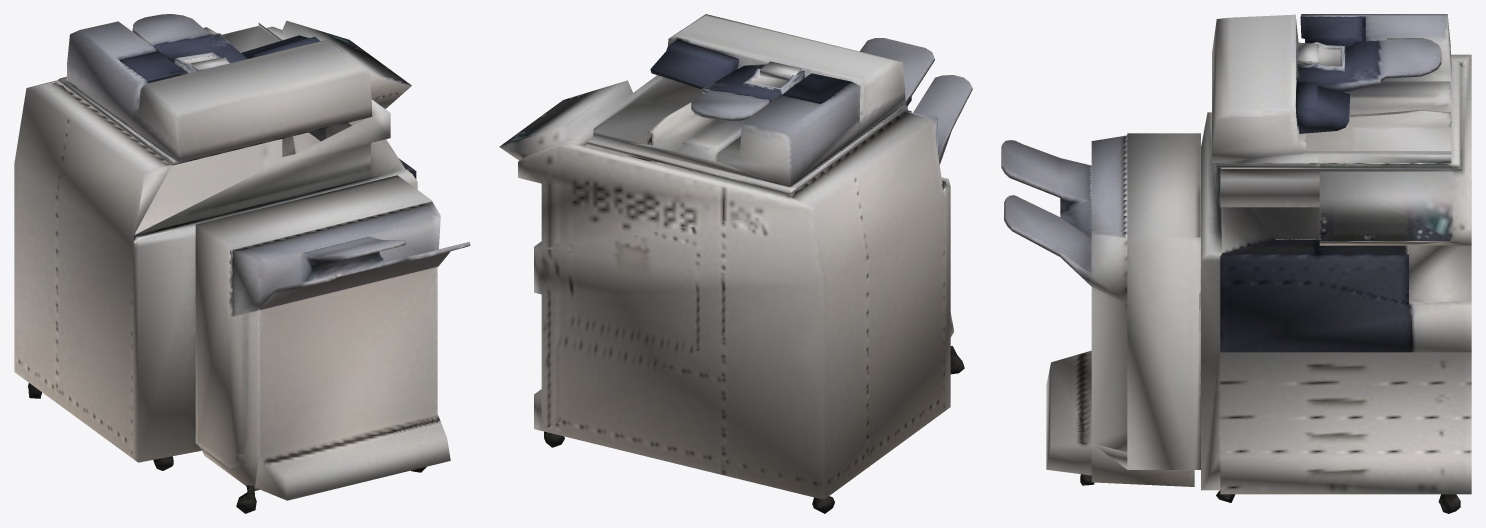
File: tripo_convert_8d50d58f-6e32-4be8-bfdd-7e49632e002f.fbx
The picture shows the model from 3 angles, left to right: view 1: azimuth 30°, elevation 25°; view 2: azimuth 150°, elevation 25°; view 3: azimuth 270°, elevation 25°; orthographic projection. The views are drawn at different scales.
Parts seen in each view (by area): view 1: tripo_node_8d50d58f; view 2: tripo_node_8d50d58f; view 3: tripo_node_8d50d58f.
Part boxes in pixels (x1,y1,x2,y2): tripo_node_8d50d58f: (14, 14, 470, 513); tripo_node_8d50d58f: (499, 14, 972, 513); tripo_node_8d50d58f: (1001, 14, 1471, 513).
Size of the model in its own units: 0.8496 by 0.8926 by 0.998.
1 material, 1 textured.
